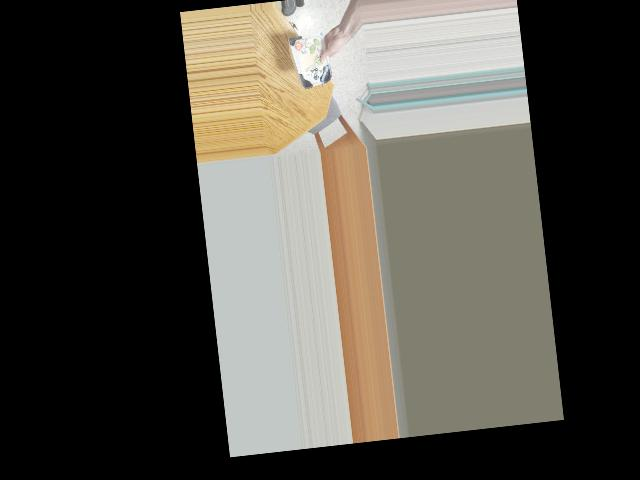cheese: (292, 38, 333, 91)
